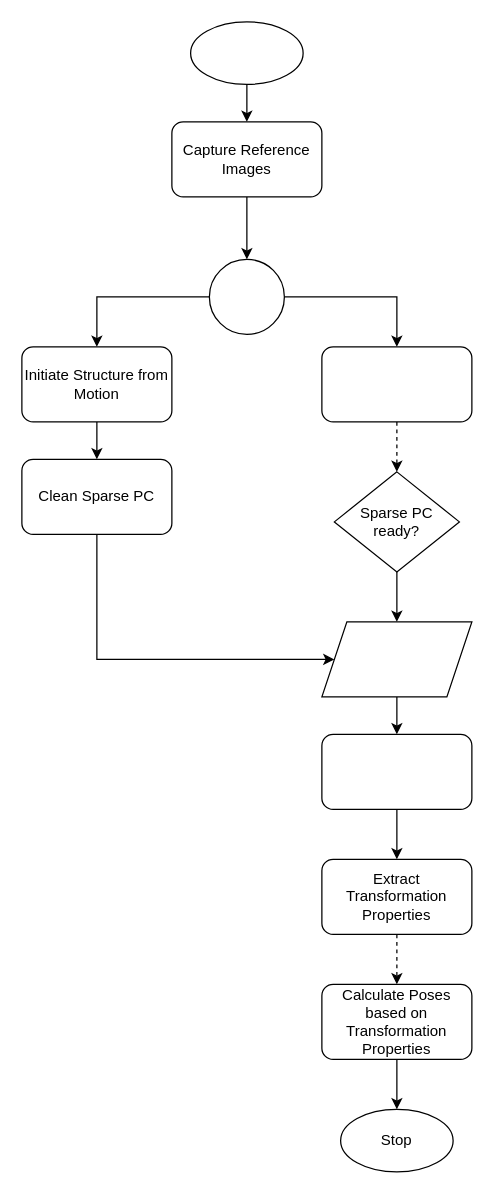
This 494x1194 diagram has some shape labels left out. Here are the shapes that lost their labels. From the top down, the centre of each, then its label:
the point at 246,52: Start
the point at 396,384: Compute Regions of Interest
the point at 396,659: Read Sparse PC
the point at 396,771: Compute RGBD-PC
